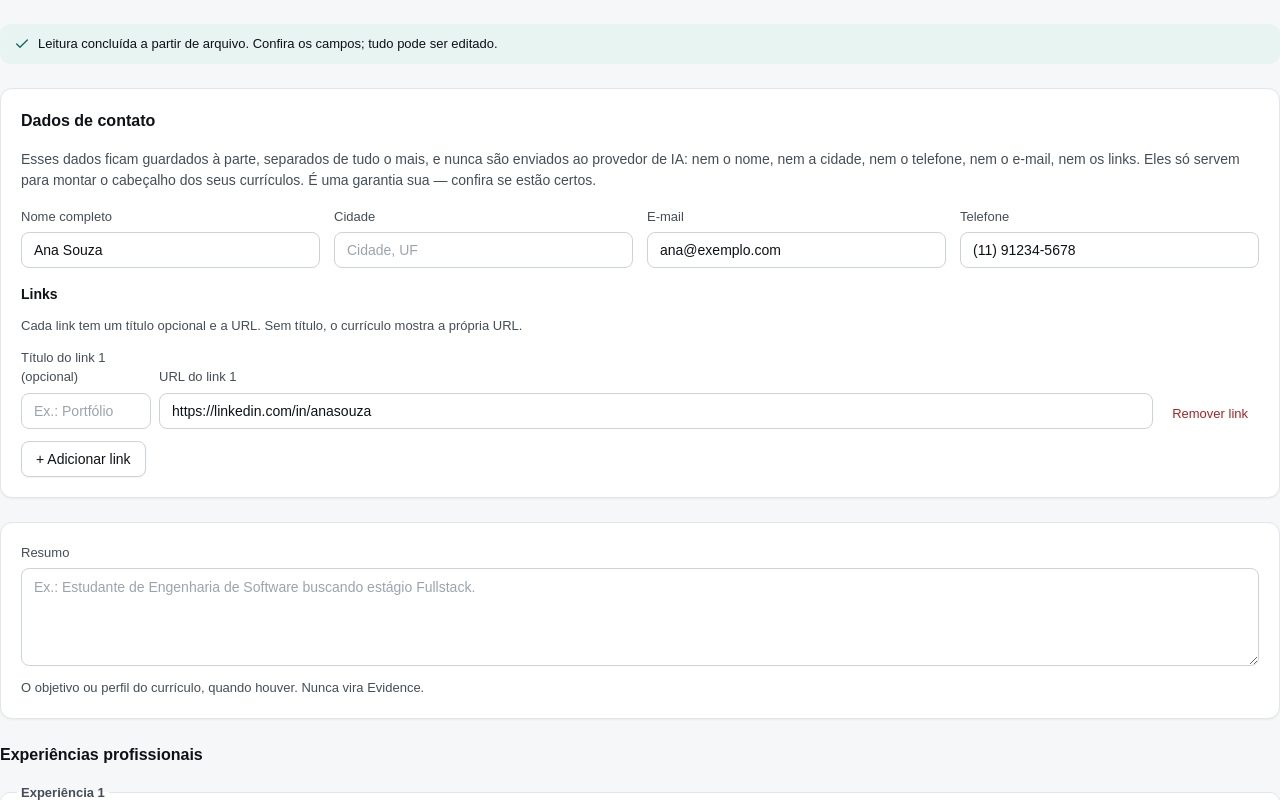
Test case: ReviewScreen › should keep every field labeled after a new contact link is added
Click the button "+ Adicionar link" at (83, 458), box [21,440,146,476]
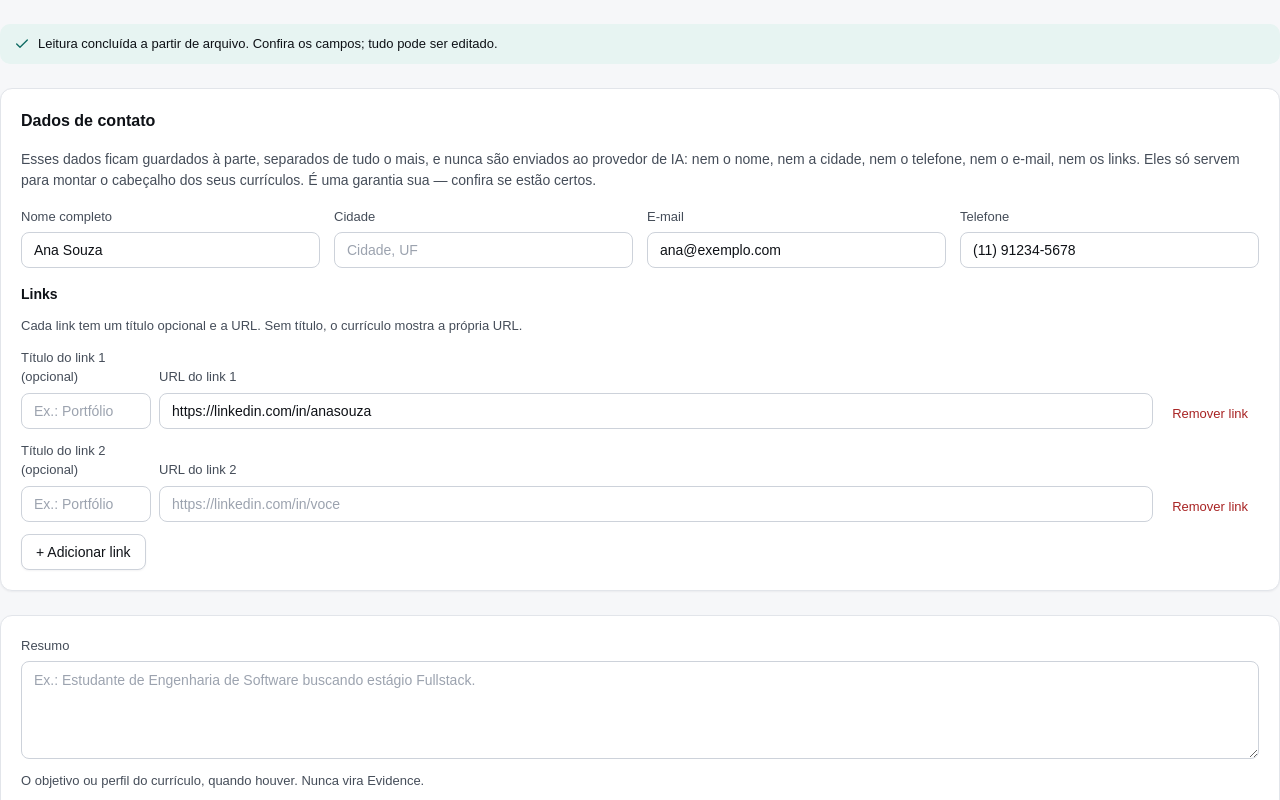
Now the field labelled "Título do link 2 (opcional)" is shown, box [21,486,151,522]
Now the field labelled "URL do link 2" is shown, box [159,486,1153,522]
